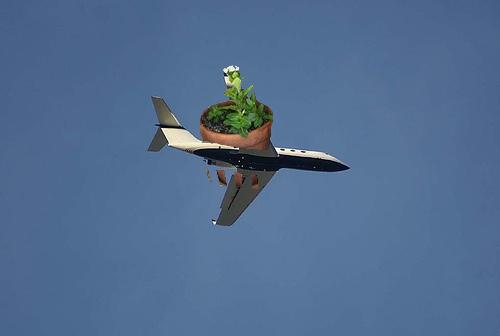tampered: (201, 66, 273, 189)
